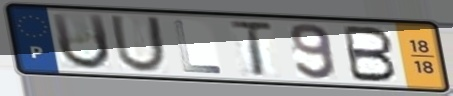9: (287, 22, 337, 82)
B: (341, 24, 400, 85)
L: (171, 18, 226, 75)
T: (226, 20, 277, 79)
U: (47, 11, 114, 72), (107, 14, 169, 75)
